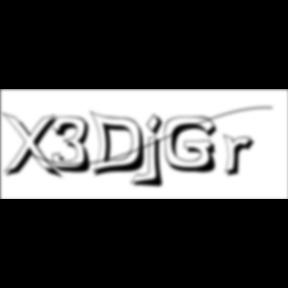3: (52, 116, 98, 176)
D: (90, 110, 152, 180)
G: (164, 116, 224, 176)
X: (1, 112, 65, 182)
j: (144, 113, 170, 191)
r: (223, 134, 261, 180)
